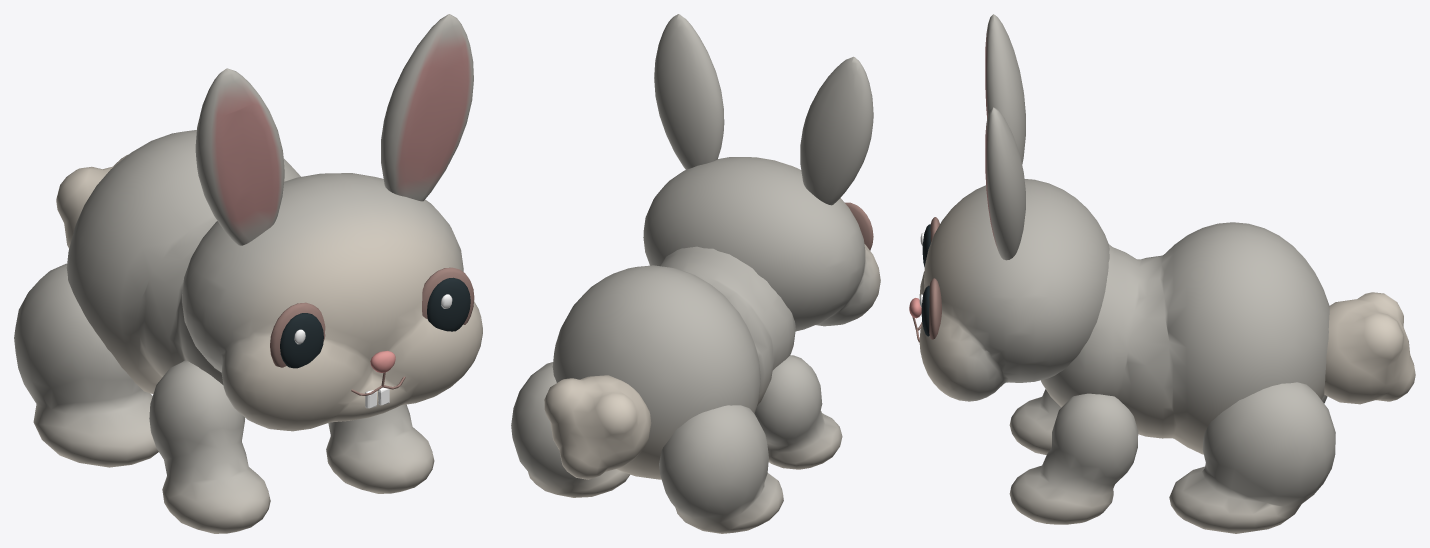
The model's file is rabbit_low.glb.
The picture shows the model from 3 angles, left to right: view 1: azimuth 30°, elevation 25°; view 2: azimuth 150°, elevation 25°; view 3: azimuth 270°, elevation 25°; orthographic projection. The views are drawn at different scales.
Visible parts, largest first — view 1: HeadMesh, BodyMesh, RearLeftMesh, FrontLeftMesh, FrontRightMesh, TailMesh; view 2: HeadMesh, BodyMesh, RearLeftMesh, TailMesh, FrontLeftMesh, RearRightMesh; view 3: BodyMesh, HeadMesh, RearRightMesh, FrontRightMesh, TailMesh, FrontLeftMesh.
Part boxes in pixels (x1,y1,x2,y2): HeadMesh: (182,14,482,431); BodyMesh: (66,130,300,393); RearLeftMesh: (14,263,158,467); FrontLeftMesh: (149,360,270,533); FrontRightMesh: (326,404,434,493); TailMesh: (56,155,127,248); HeadMesh: (643,14,880,331); BodyMesh: (552,246,795,479); RearLeftMesh: (659,405,783,533); TailMesh: (544,375,651,479); FrontLeftMesh: (754,355,842,469); RearRightMesh: (511,362,630,497); BodyMesh: (1041,222,1329,454); HeadMesh: (909,14,1109,401); RearRightMesh: (1169,382,1335,533); FrontRightMesh: (1009,393,1138,524); TailMesh: (1324,292,1415,404); FrontLeftMesh: (1009,389,1061,454).
Size of the model in its own units: 1.04 by 1.61 by 1.74.
